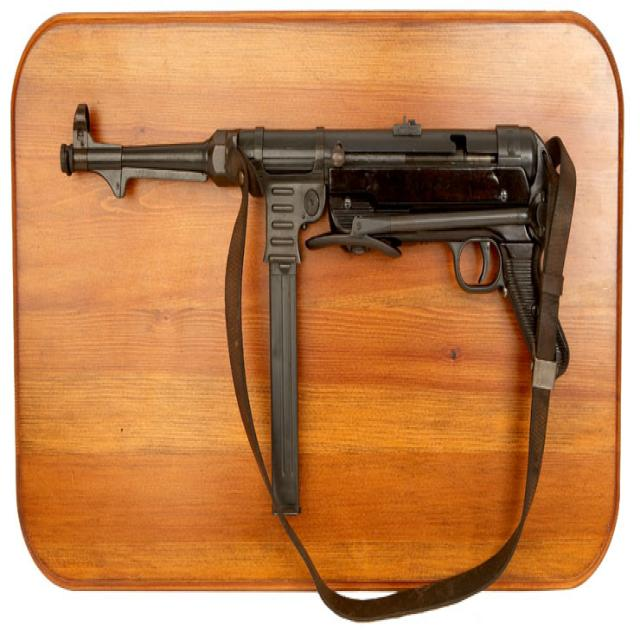SMG: (60, 106, 570, 513)
